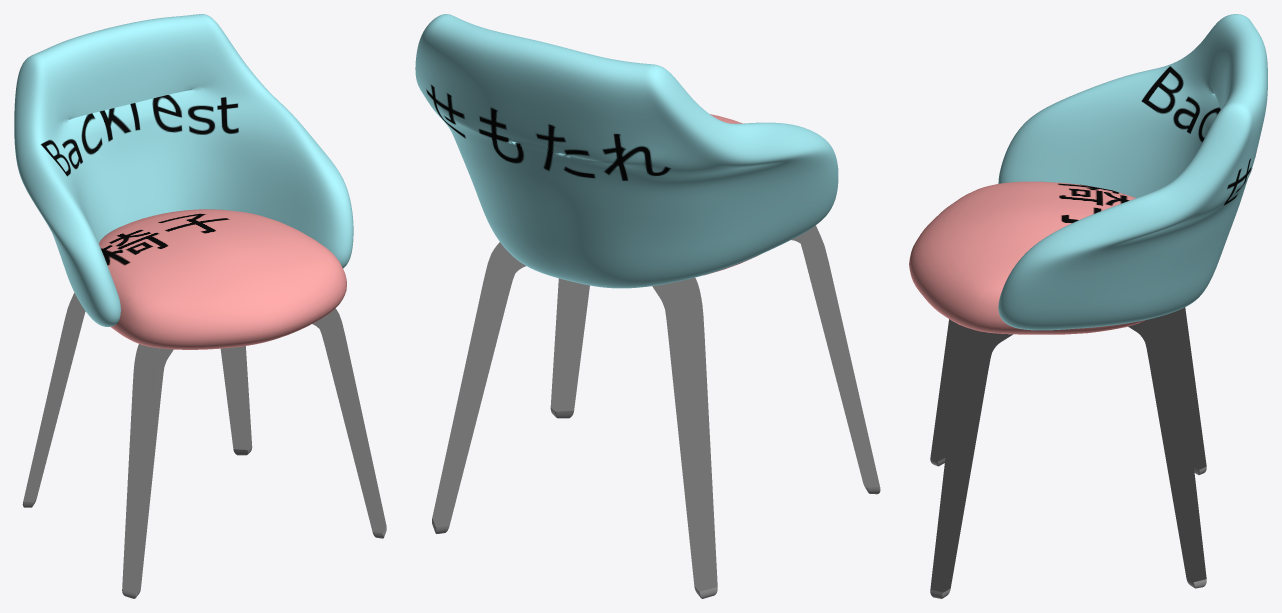
Rendered from modernChair.fbx.
3 renders of one model, left to right at view 1: azimuth 30°, elevation 25°; view 2: azimuth 150°, elevation 25°; view 3: azimuth 270°, elevation 25°, orthographic. The views are drawn at different scales.
Parts seen in each view (by area): view 1: Plane009, Box001, Line009, Line010; view 2: Plane009, Line010, Line009; view 3: Plane009, Box001, Line010, Line009.
Boxes of the visible parts, box(x1,y1,x2,y2) form: Plane009: box(14, 14, 353, 326); Box001: box(99, 209, 346, 349); Line009: box(122, 308, 386, 598); Line010: box(22, 293, 252, 507); Plane009: box(415, 14, 838, 288); Line010: box(432, 242, 717, 598); Line009: box(550, 225, 880, 494); Plane009: box(998, 14, 1267, 330); Box001: box(909, 181, 1146, 334); Line010: box(1128, 307, 1206, 588); Line009: box(930, 319, 1012, 598).
Size of the model in its own units: 51.84 by 53.01 by 77.34.
3 materials, 3 textured.
